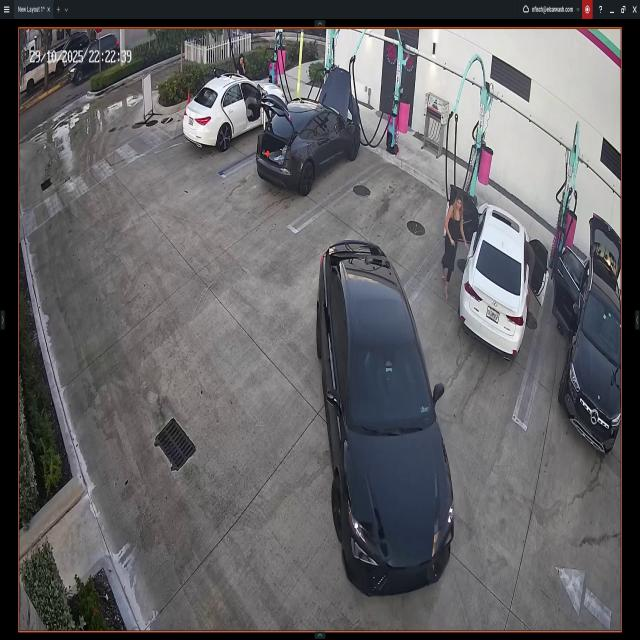Car: (312, 237, 453, 587), (443, 179, 557, 364), (549, 188, 621, 456), (254, 70, 360, 198), (187, 74, 285, 159)
